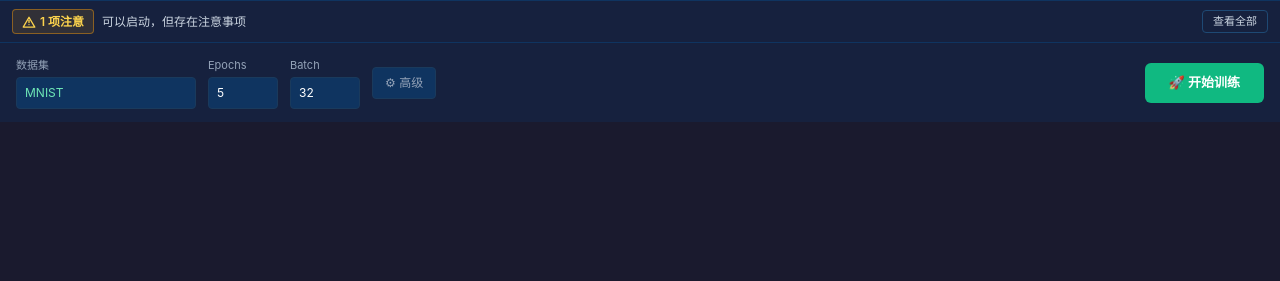
Test: QuickTrain 统一训练前检查集成 › 21. startTrainingRun 返回 false 后，面板展示 store 中真实的 preflight 错误
Step 1. Click the button with test id "start-train-btn" → (1204, 83), box [1144, 63, 1264, 103]
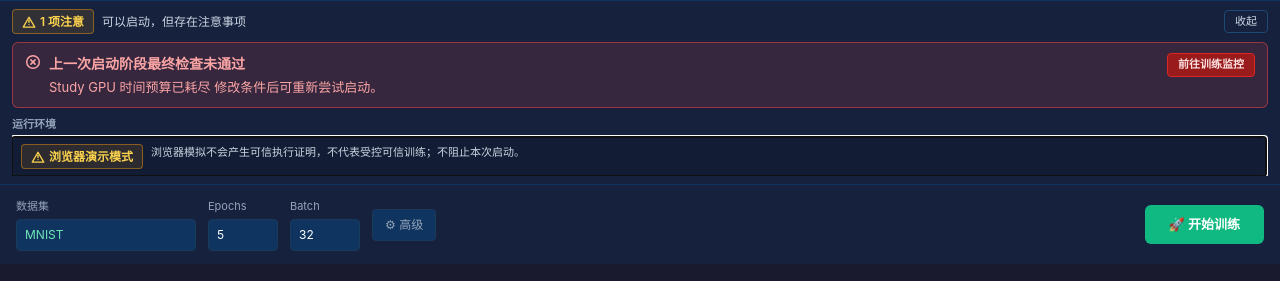
Check: the text "上一次启动阶段最终检查未通过" is shown, box [49, 55, 245, 72]
Check: the text "Study GPU 时间预算已耗尽 修改条件后可重新尝试启动。" is shown, box [49, 79, 383, 95]
